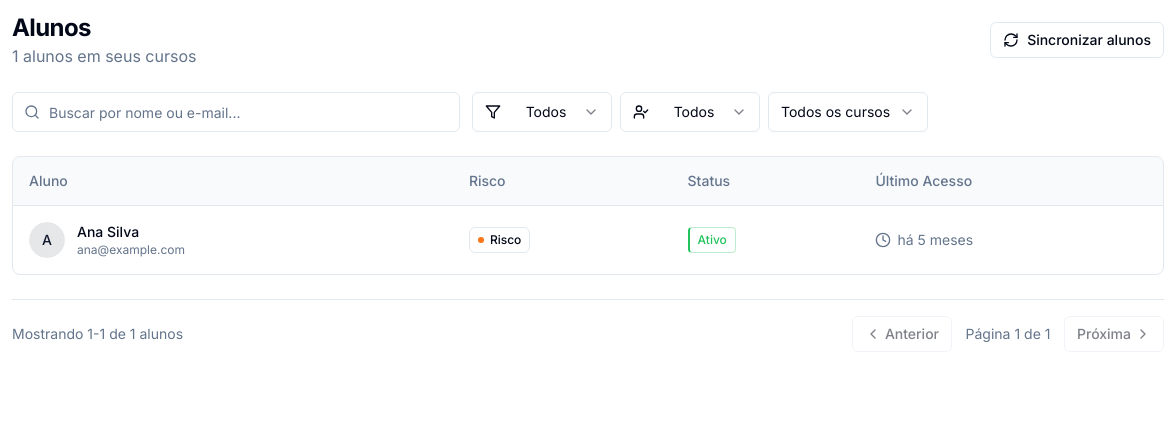
Test: Students page › shows empty state when no students match search
Type "zzz" into the search field with placeholder "Buscar por nome ou e-mail...". click: (236, 112)
box: [12,92,460,132]
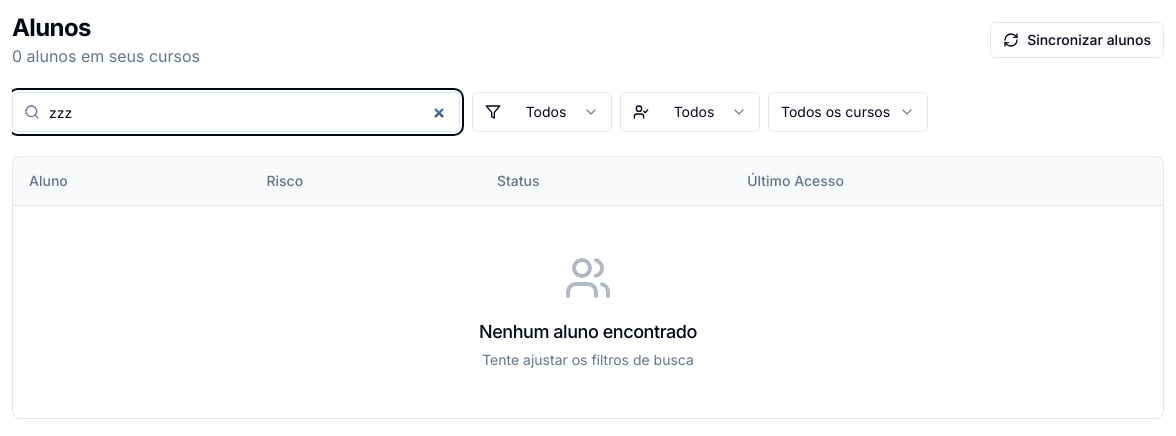
Expected: the heading "Nenhum aluno encontrado" is shown, [479,320,697,342]
